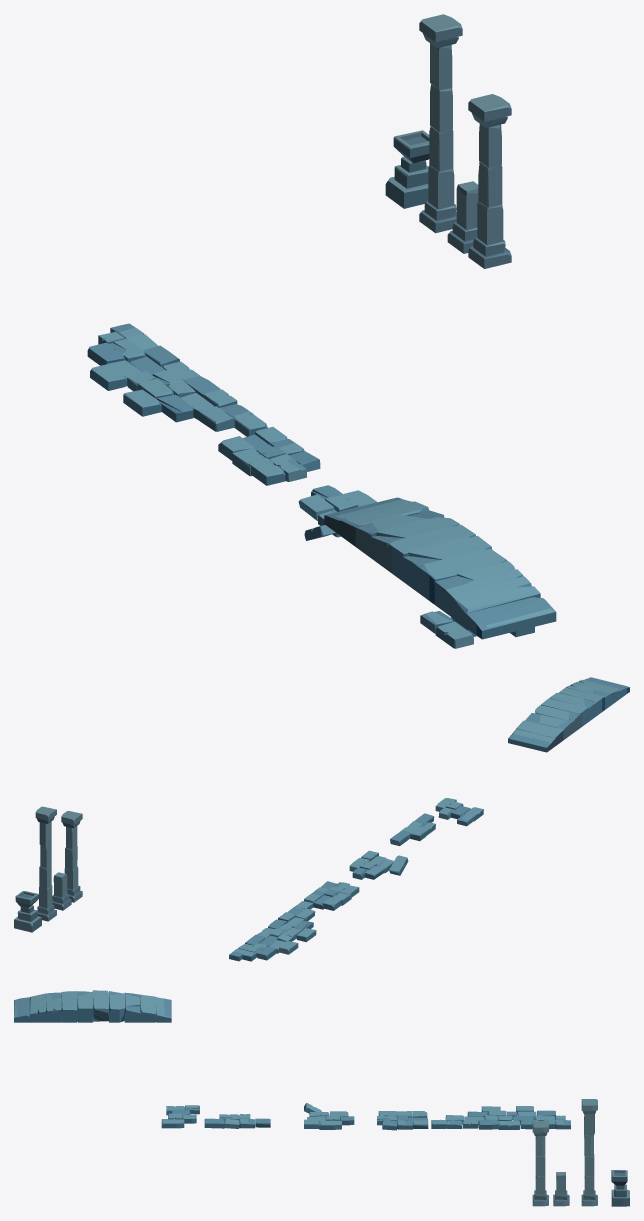
Rendered from StoneObjects2.FBX.
The picture shows the model from 3 angles, top to bottom: view 1: azimuth 30°, elevation 25°; view 2: azimuth 150°, elevation 25°; view 3: azimuth 270°, elevation 25°; orthographic projection. The views are drawn at different scales.
Parts seen in each view (by area): view 1: brick051, Box062, brick029, Box061, brick030, Object012, brick028, Box063; view 2: brick051, Box062, Box061, brick029, Box063, brick030, Object012, brick028; view 3: brick051, Box062, Box061, Box063, brick029, brick030, Object012, brick028.
Boxes of the visible parts, box(x1,y1,x2,y2) form: brick051: box(324, 497, 556, 639); Box062: box(87, 323, 267, 436); brick029: box(419, 14, 462, 233); Box061: box(218, 427, 377, 540); brick030: box(468, 94, 511, 268); Object012: box(385, 130, 429, 208); brick028: box(447, 181, 478, 253); Box063: box(420, 611, 534, 648); brick051: box(508, 677, 629, 752); Box062: box(229, 901, 316, 961); Box061: box(304, 850, 408, 910); brick029: box(35, 806, 56, 921); Box063: box(390, 798, 483, 846); brick030: box(61, 811, 82, 902); Object012: box(14, 891, 41, 932); brick028: box(52, 872, 71, 910); brick051: box(14, 990, 171, 1022); Box062: box(431, 1106, 570, 1129); Box061: box(304, 1102, 428, 1130); Box063: box(161, 1105, 270, 1128); brick029: box(581, 1099, 597, 1206); brick030: box(532, 1121, 548, 1206); Object012: box(611, 1170, 629, 1206); brick028: box(553, 1172, 569, 1206).
Size of the model in its own units: 1592 by 610 by 3062.
